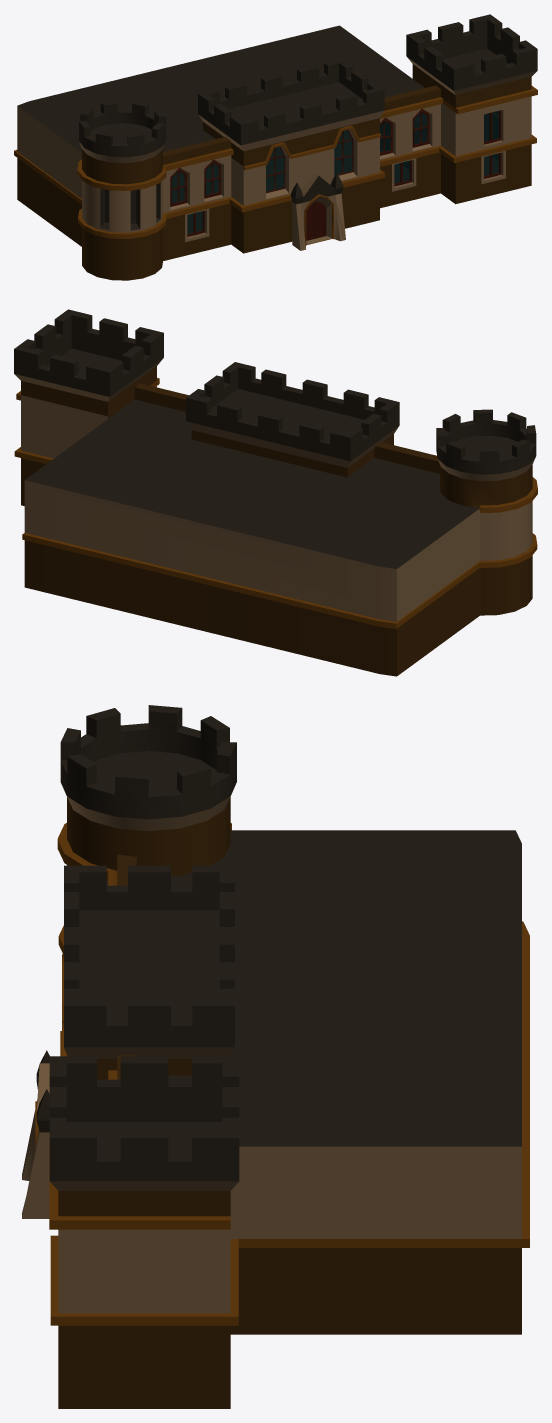
The model's file is Castle.obj.
The picture shows the model from 3 angles, top to bottom: view 1: azimuth 30°, elevation 25°; view 2: azimuth 150°, elevation 25°; view 3: azimuth 270°, elevation 25°; orthographic projection. The views are drawn at different scales.
Visible parts, largest first — view 1: Castle_Castle_top, Castle_Castle_wall1, Castle_Castle_wall3, Castle_Castle_wall2, Castle_Castle_glass, Castle_Castle_wood; view 2: Castle_Castle_top, Castle_Castle_wall1, Castle_Castle_wall3, Castle_Castle_wall2; view 3: Castle_Castle_top, Castle_Castle_wall1, Castle_Castle_wall3, Castle_Castle_wall2.
Part boxes in pixels (bbox=[...]): Castle_Castle_top: bbox=[17, 14, 537, 230]; Castle_Castle_wall1: bbox=[17, 64, 531, 280]; Castle_Castle_wall3: bbox=[17, 57, 537, 250]; Castle_Castle_wall2: bbox=[14, 86, 537, 245]; Castle_Castle_glass: bbox=[172, 111, 498, 233]; Castle_Castle_wood: bbox=[170, 109, 501, 240]; Castle_Castle_top: bbox=[14, 309, 536, 568]; Castle_Castle_wall1: bbox=[21, 366, 532, 676]; Castle_Castle_wall3: bbox=[14, 358, 535, 621]; Castle_Castle_wall2: bbox=[14, 378, 537, 628]; Castle_Castle_top: bbox=[36, 705, 521, 1181]; Castle_Castle_wall1: bbox=[58, 797, 521, 1408]; Castle_Castle_wall3: bbox=[22, 784, 521, 1313]; Castle_Castle_wall2: bbox=[35, 823, 529, 1325].
Size of the model in its own units: 121 by 38.82 by 61.75.
